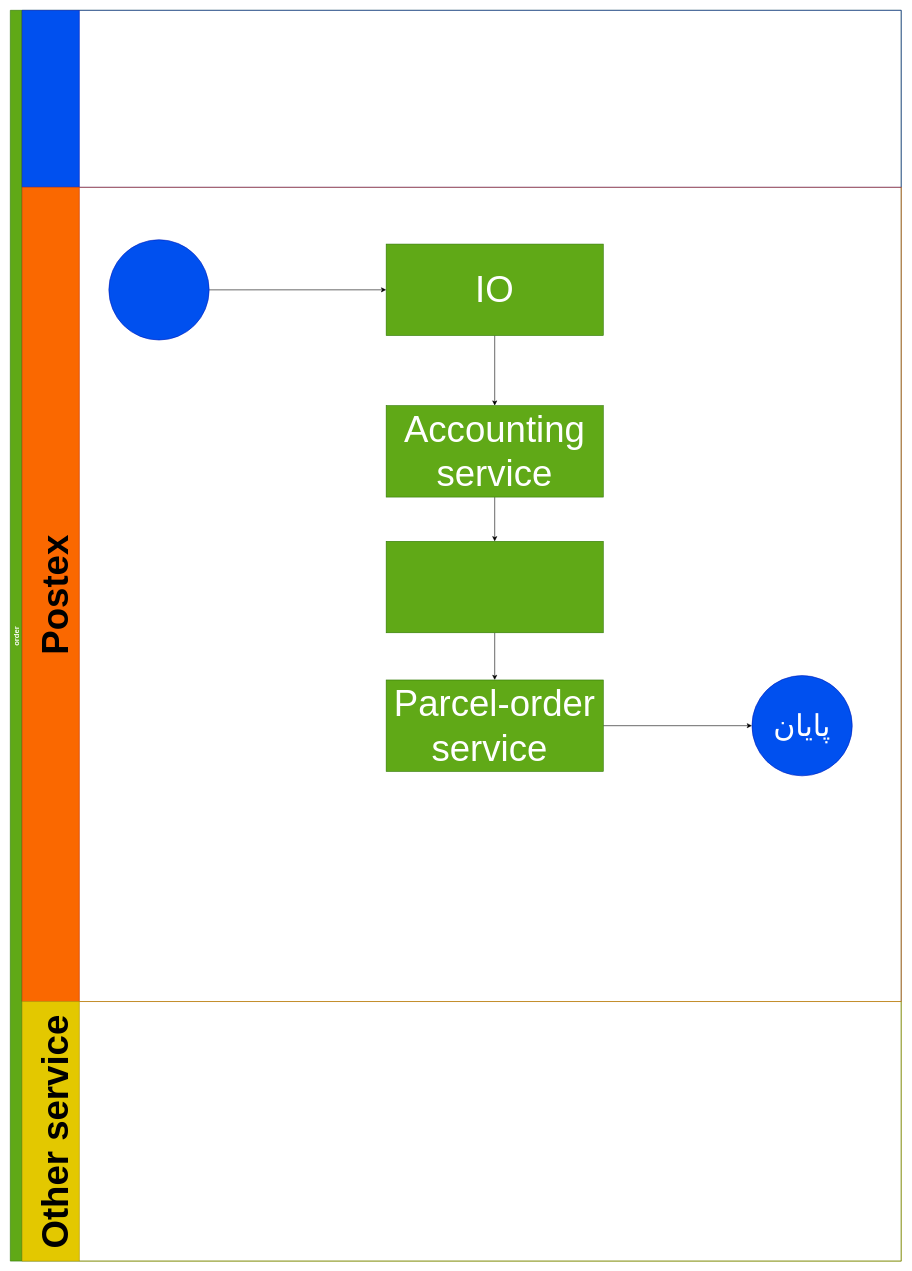
Image size: 912x1271. Some labels were removed from this diagram. Here are the shapes that lost their labels. From the top down, the centre of each, then its label:
the point at 461,98: Customer
the point at 158,289: شروع
the point at 494,587: Agent service
